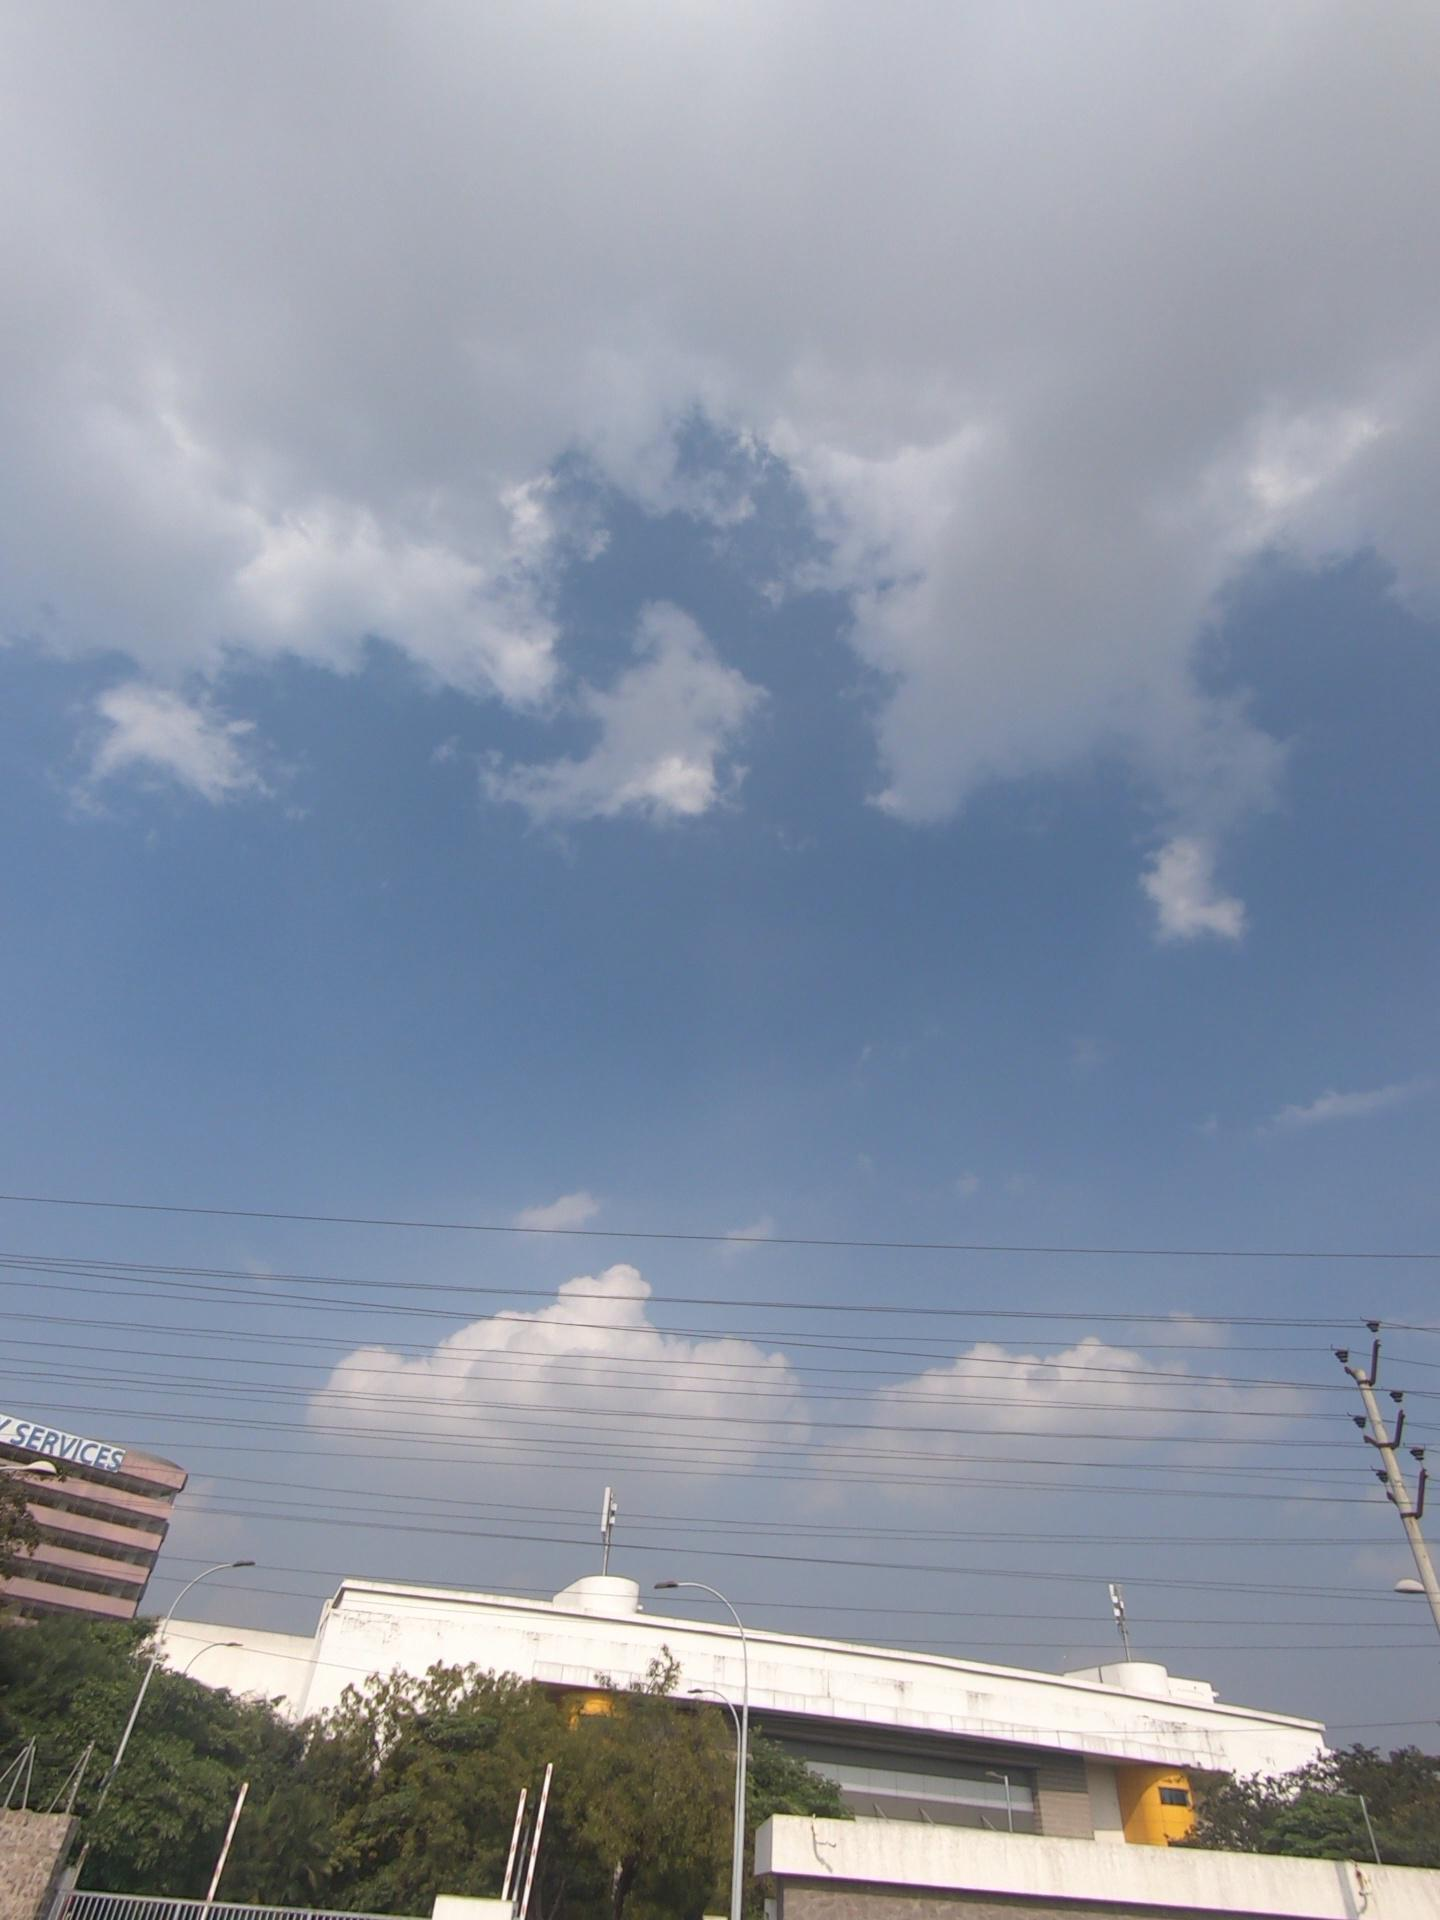off: (154, 1596, 808, 1884)
